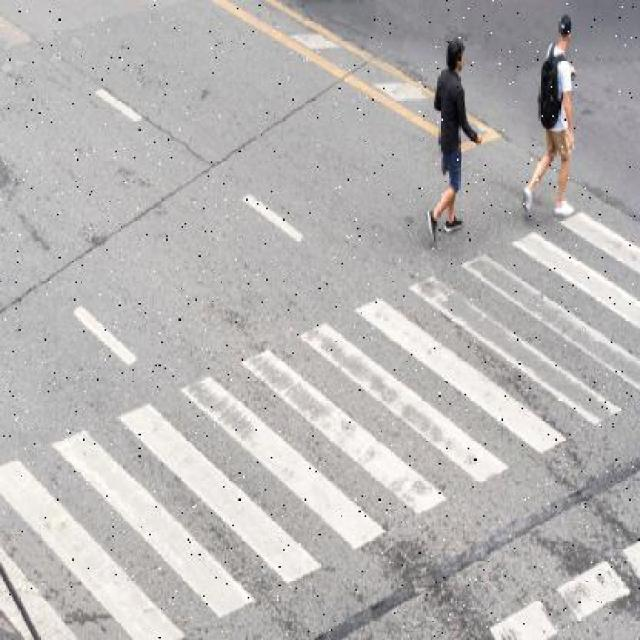crosswalk: (0, 209, 640, 640)
